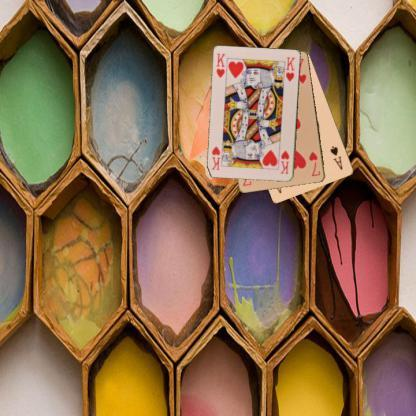7h: (307, 148, 322, 178)
As: (327, 143, 344, 171)
Kh: (213, 50, 228, 80), (278, 148, 291, 176)
